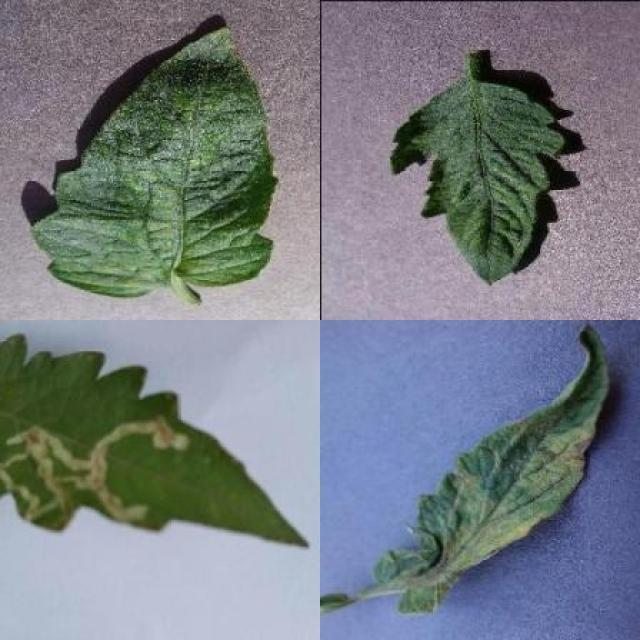Leaf Miner: (0, 334, 310, 552)
Leaf Mold: (375, 319, 608, 616)
Mosaic Virus: (388, 80, 566, 286)
Spider Mites: (31, 22, 273, 298)
